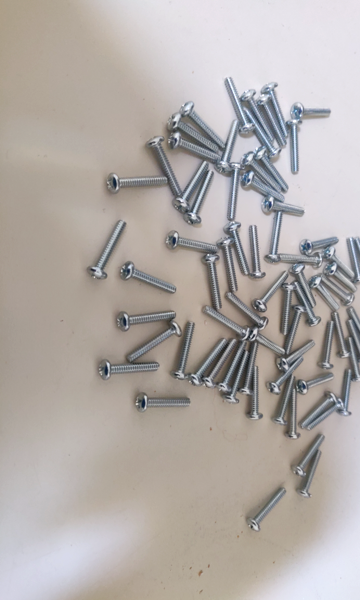longscrew: (128, 320, 179, 364), (90, 219, 127, 277), (241, 89, 277, 143), (151, 133, 181, 197), (247, 108, 283, 161), (170, 114, 219, 152), (225, 77, 256, 137), (183, 104, 228, 145), (174, 161, 210, 211), (248, 490, 289, 533), (245, 154, 285, 197), (93, 358, 161, 383), (127, 389, 195, 414), (187, 170, 218, 224), (203, 339, 236, 389), (191, 341, 224, 390), (119, 265, 180, 291), (293, 432, 327, 478), (112, 309, 176, 333), (173, 320, 198, 381), (240, 173, 286, 206), (253, 272, 291, 311), (202, 307, 248, 339), (260, 95, 288, 147), (258, 149, 290, 194), (268, 358, 305, 395), (227, 297, 272, 327), (273, 376, 300, 426), (200, 256, 223, 314), (168, 139, 219, 165), (306, 400, 346, 433), (219, 239, 242, 296), (224, 352, 249, 404), (216, 340, 240, 393), (302, 392, 337, 428), (227, 223, 249, 280), (277, 339, 317, 370), (264, 83, 288, 134), (217, 119, 238, 174), (293, 280, 318, 326), (165, 233, 219, 254), (262, 195, 307, 220), (241, 344, 261, 397), (244, 367, 264, 420), (267, 212, 286, 267), (301, 453, 324, 498), (102, 175, 166, 191), (297, 372, 336, 398), (226, 162, 243, 221), (249, 330, 286, 357), (324, 275, 356, 306), (325, 248, 355, 280), (284, 308, 304, 354), (343, 235, 360, 289), (313, 275, 340, 309), (332, 309, 349, 362), (278, 286, 296, 336), (338, 372, 357, 417), (298, 267, 318, 308), (252, 223, 265, 284), (318, 322, 334, 370), (280, 251, 321, 269), (330, 265, 358, 291), (288, 106, 331, 122), (289, 120, 301, 176), (298, 239, 340, 254), (289, 391, 301, 441), (347, 338, 360, 382), (349, 320, 360, 360), (350, 306, 360, 346), (355, 235, 360, 284)
